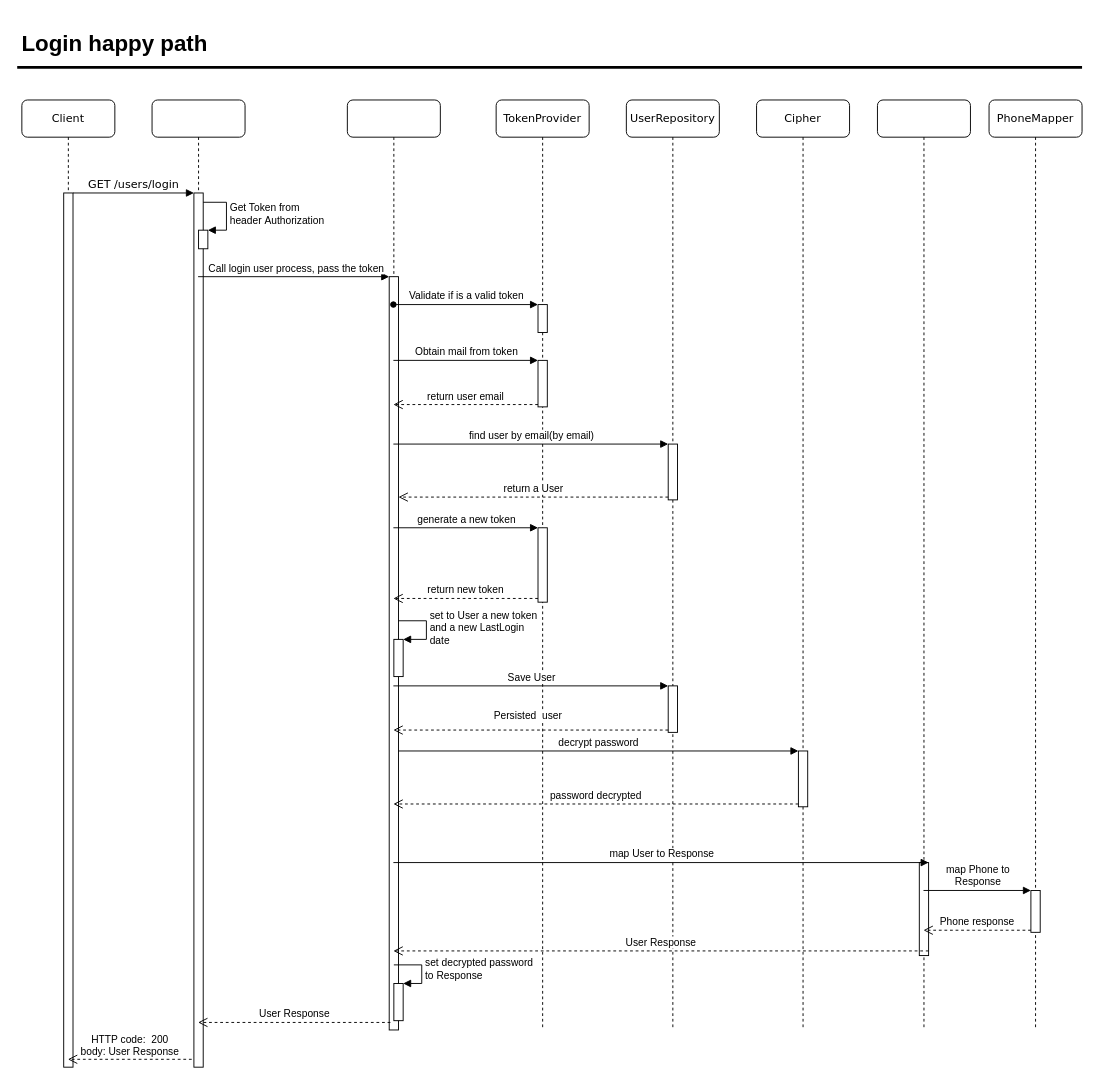
This 1100x1085 diagram has some shape labels left out. The box of each missing label's shape, as (x1, y1, x2, y2) in pixels:
LoginUser Service: (346, 99, 440, 1030)
UserController: (151, 99, 245, 1067)
UserMapper: (877, 99, 970, 1030)
